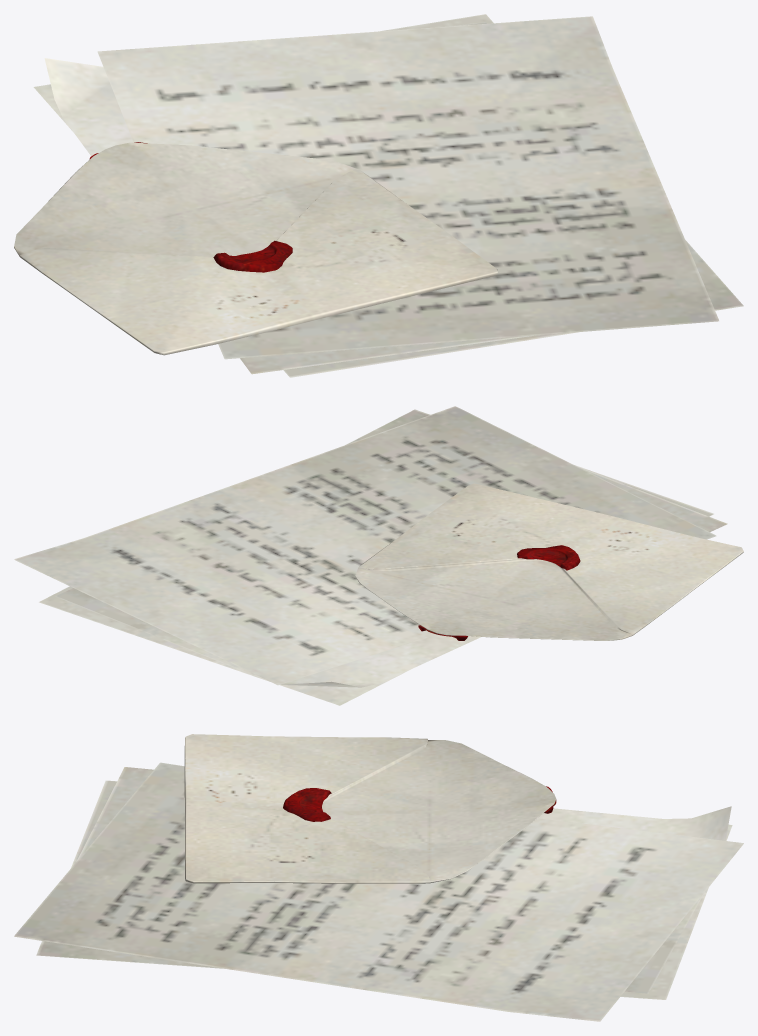
The model's file is 088_letter01a.fbx.
The picture shows the model from 3 angles, top to bottom: view 1: azimuth 30°, elevation 25°; view 2: azimuth 150°, elevation 25°; view 3: azimuth 270°, elevation 25°; orthographic projection. The views are drawn at different scales.
Parts seen in each view (by area): view 1: LOD_1_Group_2_Sub_1__sm36_088_Letter01A_A_Mat__Env_Default, LOD_1_Group_3_Sub_1__sm36_088_Letter01A_A_Mat__Env_Default, LOD_1_Group_0_Sub_1__sm36_088_Letter01A_A_Mat__Env_Default, LOD_1_Group_1_Sub_1__sm36_088_Letter01A_A_Mat__Env_Default, LOD_1_Group_4_Sub_1__sm36_088_Letter01A_A_Mat__Env_Default; view 2: LOD_1_Group_2_Sub_1__sm36_088_Letter01A_A_Mat__Env_Default, LOD_1_Group_3_Sub_1__sm36_088_Letter01A_A_Mat__Env_Default, LOD_1_Group_0_Sub_1__sm36_088_Letter01A_A_Mat__Env_Default, LOD_1_Group_1_Sub_1__sm36_088_Letter01A_A_Mat__Env_Default, LOD_1_Group_4_Sub_1__sm36_088_Letter01A_A_Mat__Env_Default; view 3: LOD_1_Group_2_Sub_1__sm36_088_Letter01A_A_Mat__Env_Default, LOD_1_Group_3_Sub_1__sm36_088_Letter01A_A_Mat__Env_Default, LOD_1_Group_0_Sub_1__sm36_088_Letter01A_A_Mat__Env_Default, LOD_1_Group_1_Sub_1__sm36_088_Letter01A_A_Mat__Env_Default, LOD_1_Group_4_Sub_1__sm36_088_Letter01A_A_Mat__Env_Default.
Boxes of the visible parts, x1,y1,x2,y2 form: LOD_1_Group_2_Sub_1__sm36_088_Letter01A_A_Mat__Env_Default: (97, 16, 718, 359); LOD_1_Group_3_Sub_1__sm36_088_Letter01A_A_Mat__Env_Default: (14, 142, 498, 355); LOD_1_Group_0_Sub_1__sm36_088_Letter01A_A_Mat__Env_Default: (44, 22, 533, 374); LOD_1_Group_1_Sub_1__sm36_088_Letter01A_A_Mat__Env_Default: (33, 14, 743, 377); LOD_1_Group_4_Sub_1__sm36_088_Letter01A_A_Mat__Env_Default: (89, 142, 292, 272); LOD_1_Group_2_Sub_1__sm36_088_Letter01A_A_Mat__Env_Default: (14, 406, 716, 685); LOD_1_Group_3_Sub_1__sm36_088_Letter01A_A_Mat__Env_Default: (355, 483, 743, 640); LOD_1_Group_0_Sub_1__sm36_088_Letter01A_A_Mat__Env_Default: (55, 466, 727, 687); LOD_1_Group_1_Sub_1__sm36_088_Letter01A_A_Mat__Env_Default: (39, 409, 713, 705); LOD_1_Group_4_Sub_1__sm36_088_Letter01A_A_Mat__Env_Default: (418, 545, 580, 640); LOD_1_Group_2_Sub_1__sm36_088_Letter01A_A_Mat__Env_Default: (14, 762, 743, 1021); LOD_1_Group_3_Sub_1__sm36_088_Letter01A_A_Mat__Env_Default: (184, 734, 556, 883); LOD_1_Group_0_Sub_1__sm36_088_Letter01A_A_Mat__Env_Default: (76, 767, 731, 993); LOD_1_Group_1_Sub_1__sm36_088_Letter01A_A_Mat__Env_Default: (36, 780, 732, 999); LOD_1_Group_4_Sub_1__sm36_088_Letter01A_A_Mat__Env_Default: (283, 786, 556, 821).
Bounding box in the file's own units: 0.3567 × 0.0137 × 0.3861.
